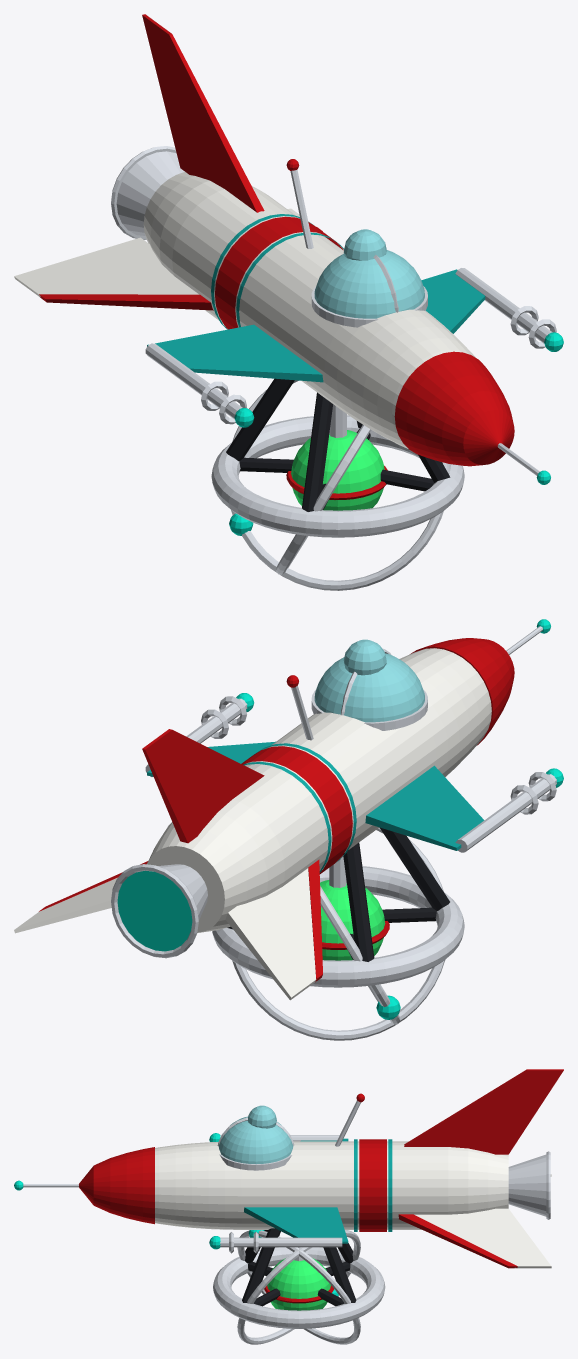
File: fighter.obj
The picture shows the model from 3 angles, top to bottom: view 1: azimuth 30°, elevation 25°; view 2: azimuth 150°, elevation 25°; view 3: azimuth 270°, elevation 25°; orthographic projection. The views are drawn at different scales.
Visible parts, largest first — view 1: fighter; view 2: fighter; view 3: fighter.
Boxes of the visible parts, x1,y1,x2,y2 form: fighter: (14, 14, 563, 590); fighter: (14, 619, 563, 1040); fighter: (14, 1069, 563, 1344).
Size of the model in its own units: 21.73 by 25.3 by 45.
1 material, 1 textured.
